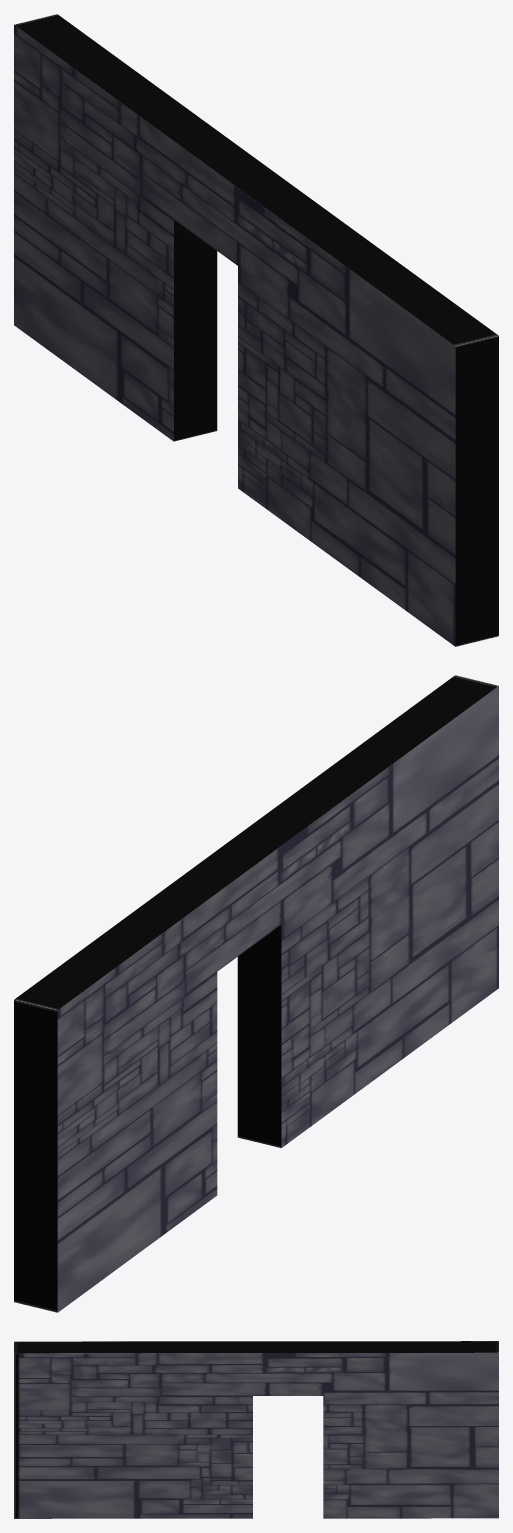
File: WallWithHole.fbx
3 views of the same model, one above another, from view 1: azimuth 30°, elevation 25°; view 2: azimuth 150°, elevation 25°; view 3: azimuth 270°, elevation 25° (orthographic). The views are drawn at different scales.
Parts seen in each view (by area): view 1: pCube1; view 2: pCube1; view 3: pCube1.
Boxes of the visible parts, box(x1,y1,x2,y2) form: pCube1: box(14, 14, 498, 646); pCube1: box(14, 675, 498, 1312); pCube1: box(14, 1341, 498, 1518).
Bounding box in the file's own units: 2.69 × 17.14 × 45.49.
